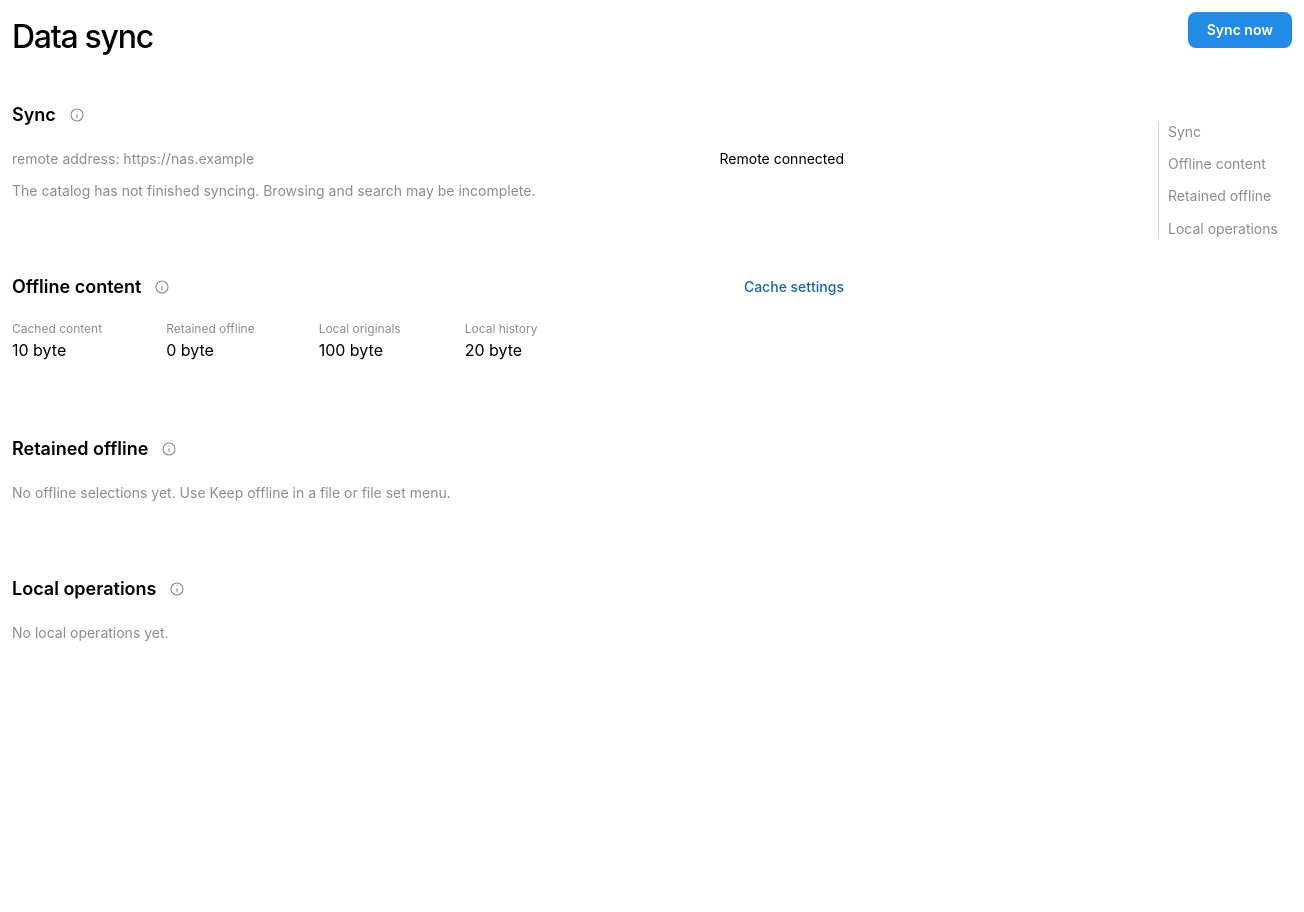
Test: shows incomplete catalog without automatically syncing
Check: the text "catalog has not finished syncing" is shown, box x1=12 y1=182 x2=536 y2=199
What coordinates should you click on to do the following:
click the button "Sync now"
I would click on:
 (1240, 30)
Its box is x1=1188 y1=12 x2=1292 y2=48.
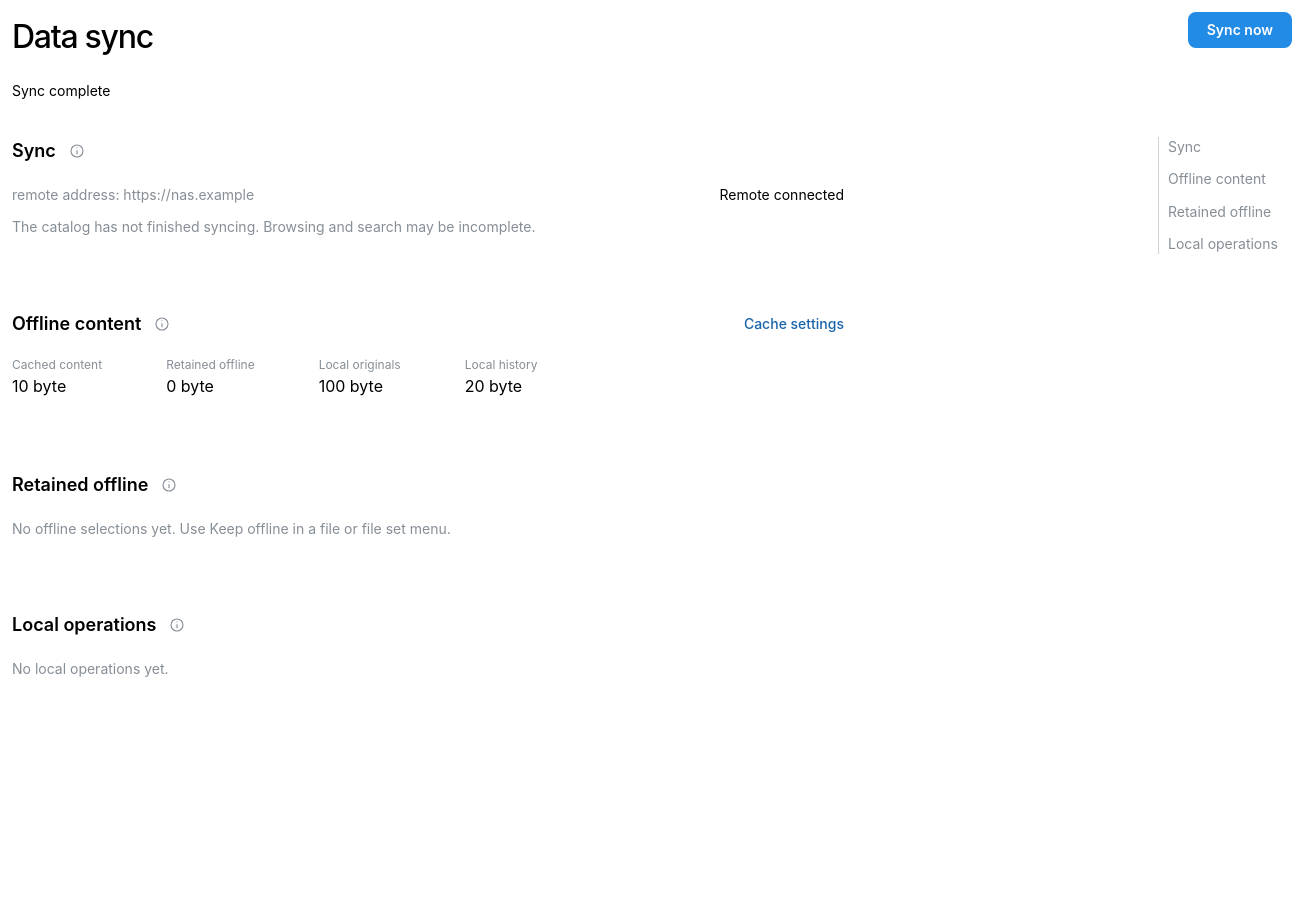
Check: the text "Sync complete" is shown, box x1=12 y1=82 x2=110 y2=99
